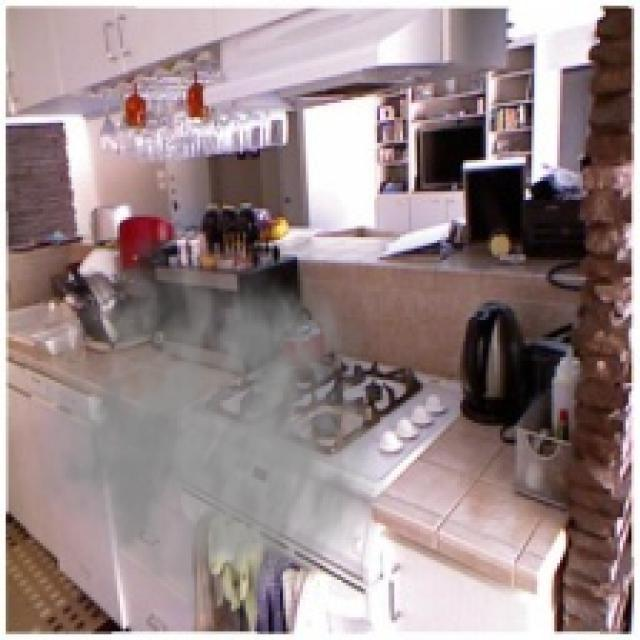Smoke: (11, 215, 392, 620)
